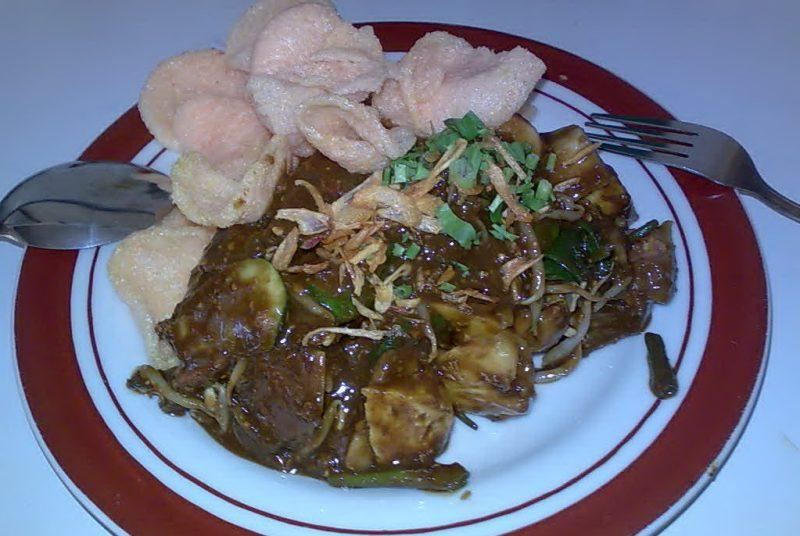rujak_cingur: (105, 2, 679, 495)
